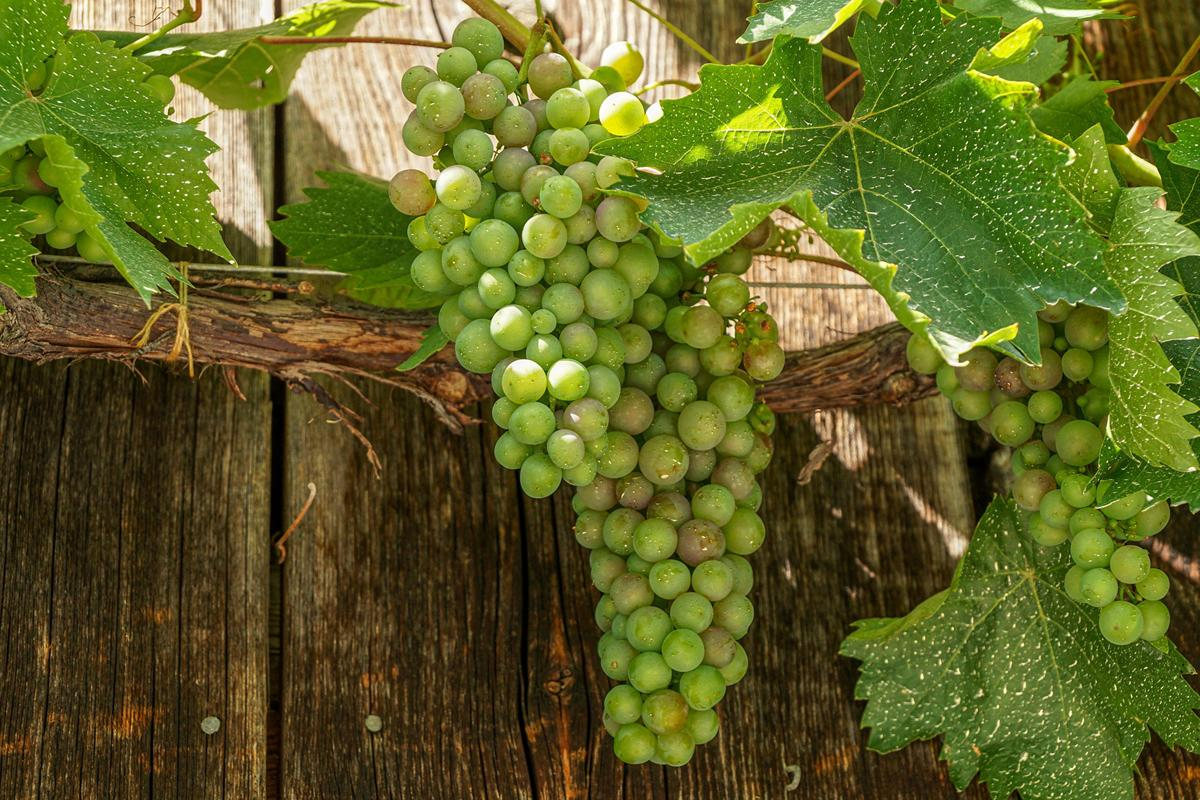Grape Unripe: (381, 7, 666, 482), (903, 259, 1185, 645), (572, 250, 765, 779)
